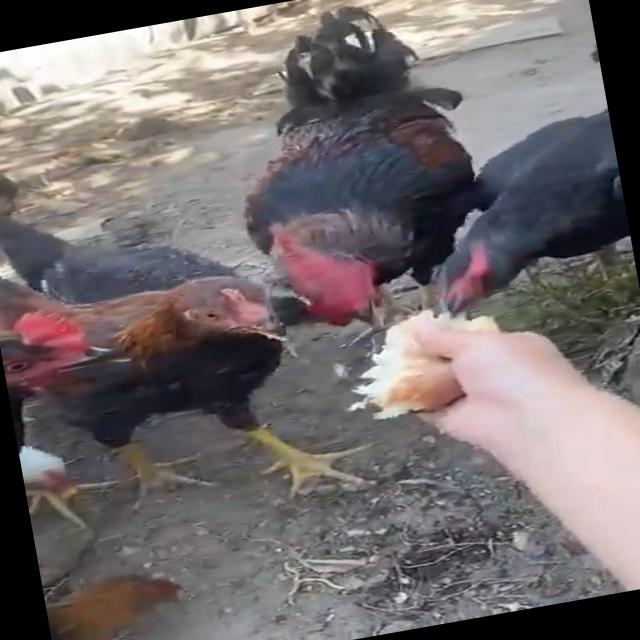feeding: (0, 258, 376, 535), (203, 0, 498, 347), (383, 109, 636, 310)
